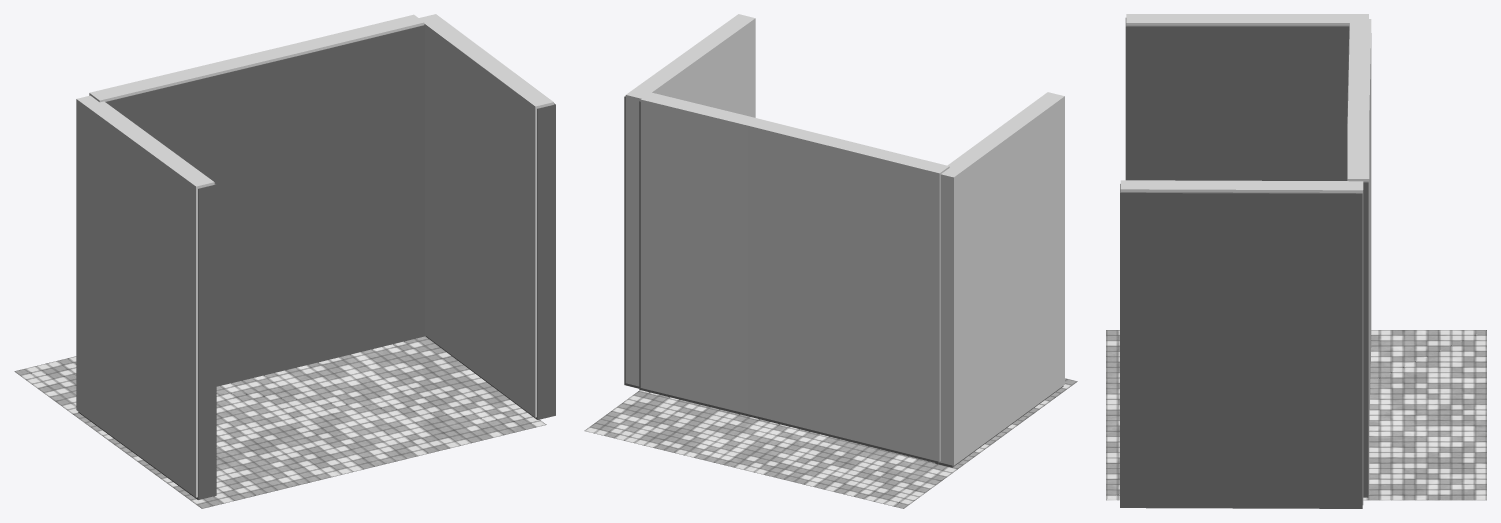
Rendered from Reactor_room.glb.
The picture shows the model from 3 angles, left to right: view 1: azimuth 30°, elevation 25°; view 2: azimuth 150°, elevation 25°; view 3: azimuth 270°, elevation 25°; orthographic projection. The views are drawn at different scales.
Visible parts, largest first — view 1: Cube.001, Cube.002, Plane; view 2: Cube.002, Plane, Cube.001; view 3: Cube.001, Plane, Cube.002.
Boxes of the visible parts, x1=… form: Cube.001: x1=78, y1=24, x2=555, y2=499; Cube.002: x1=76, y1=14, x2=553, y2=497; Plane: x1=14, y1=336, x2=546, y2=508; Cube.002: x1=625, y1=14, x2=1064, y2=465; Plane: x1=584, y1=378, x2=1077, y2=508; Cube.001: x1=624, y1=96, x2=1063, y2=467; Cube.001: x1=1120, y1=18, x2=1368, y2=508; Plane: x1=1106, y1=330, x2=1486, y2=500; Cube.002: x1=1120, y1=14, x2=1371, y2=504.
Size of the model in its own units: 6.99 by 5.82 by 6.28.
2 materials, 1 textured.
